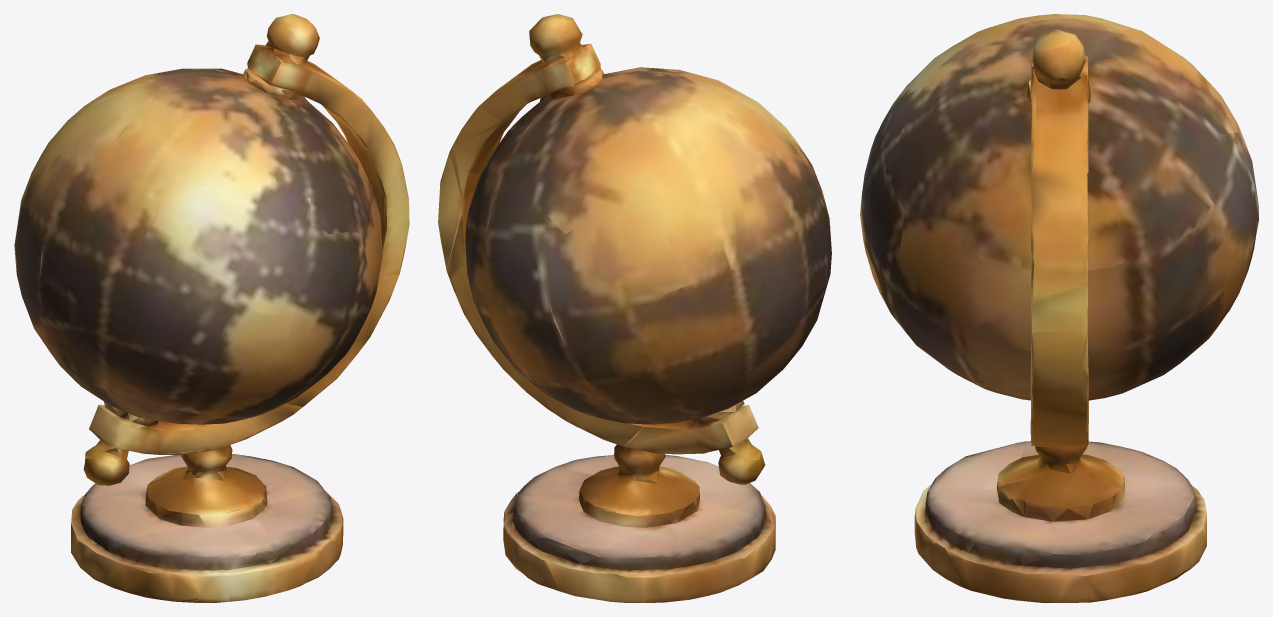
Rendered from deco27.glb.
3 views of the same model, side by side, from view 1: azimuth 30°, elevation 25°; view 2: azimuth 150°, elevation 25°; view 3: azimuth 270°, elevation 25° (orthographic). The views are drawn at different scales.
Bounding box in the file's own units: 0.1885 × 0.2569 × 0.1679.
Materials: 1 (1 with a texture image).
